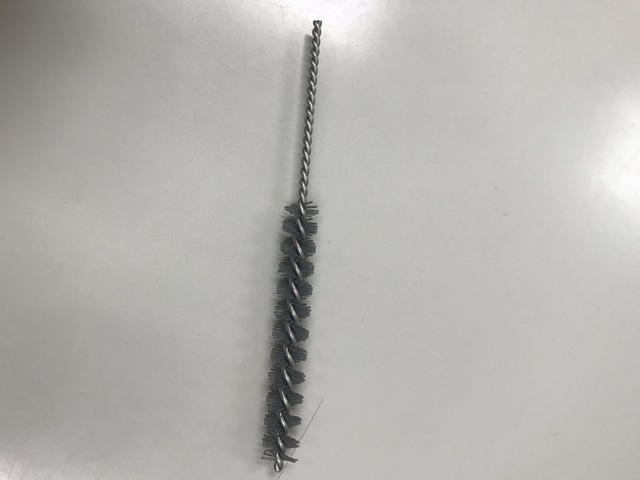Twist Brush-A: (259, 17, 324, 476)
